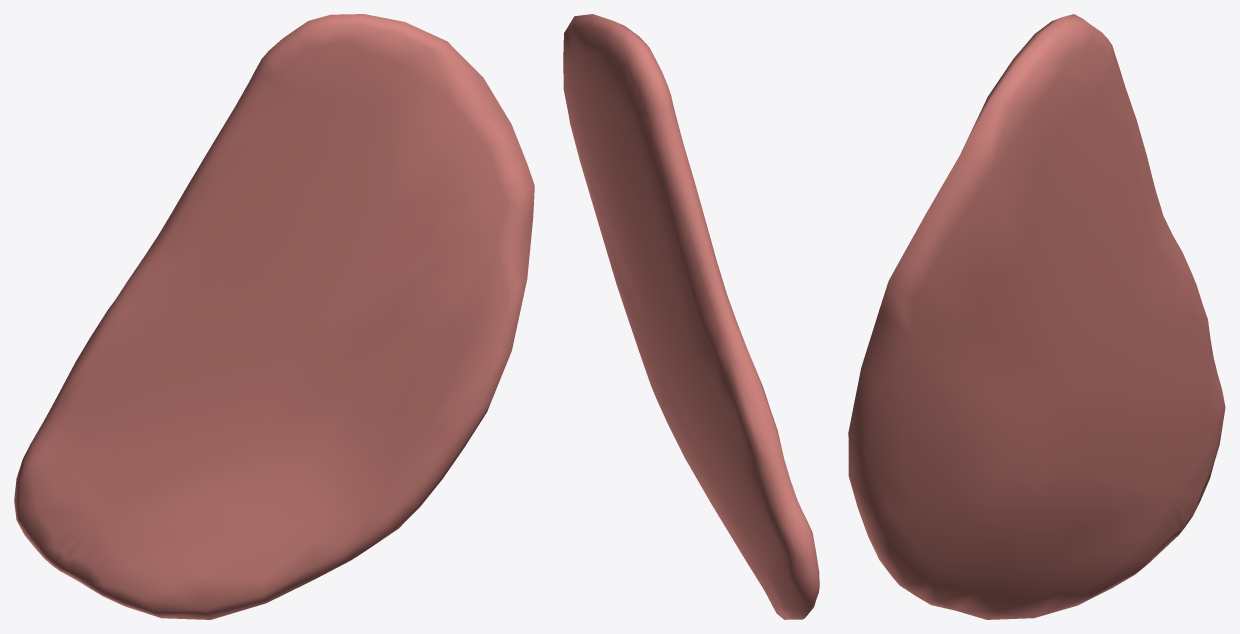
3 views of the same model, side by side, from view 1: azimuth 30°, elevation 25°; view 2: azimuth 150°, elevation 25°; view 3: azimuth 270°, elevation 25° (orthographic). The views are drawn at different scales.
Parts seen in each view (by area): view 1: ZA_90b66cf251d35afa; view 2: ZA_90b66cf251d35afa; view 3: ZA_90b66cf251d35afa.
Part boxes in pixels (bbox=[...]): ZA_90b66cf251d35afa: bbox=[14, 14, 534, 619]; ZA_90b66cf251d35afa: bbox=[563, 14, 819, 619]; ZA_90b66cf251d35afa: bbox=[848, 14, 1225, 619].
Size of the model in its own units: 0.00657 by 0.00907 by 0.00452.
